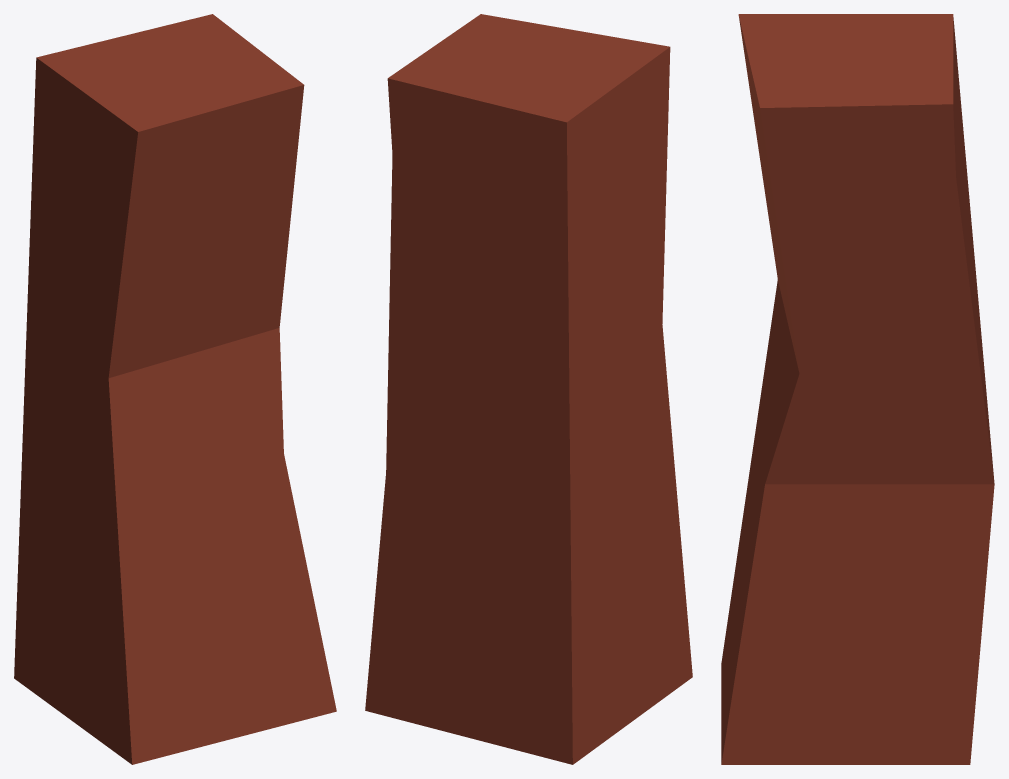
The model's file is treelog_3b.fbx.
The picture shows the model from 3 angles, left to right: view 1: azimuth 30°, elevation 25°; view 2: azimuth 150°, elevation 25°; view 3: azimuth 270°, elevation 25°; orthographic projection. The views are drawn at different scales.
Parts seen in each view (by area): view 1: treelog_3b; view 2: treelog_3b; view 3: treelog_3b.
Part boxes in pixels (left/top/right/bottom): treelog_3b: left=14, top=14, right=336, bottom=764; treelog_3b: left=365, top=14, right=692, bottom=764; treelog_3b: left=721, top=14, right=994, bottom=764.
Bounding box in the file's own units: 49.99 × 146 × 54.88.
